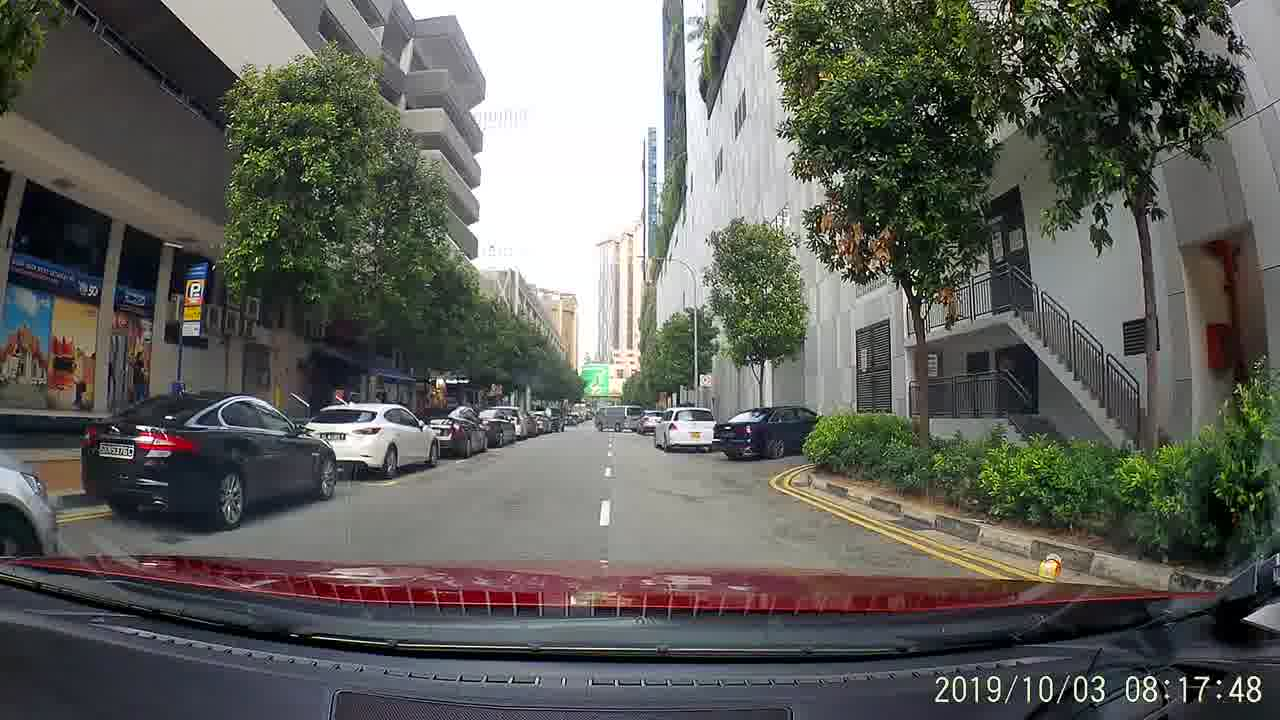car: (82, 393, 340, 532), (297, 402, 444, 479), (718, 404, 825, 462), (416, 404, 492, 457), (652, 406, 720, 453), (470, 406, 518, 448), (508, 411, 537, 437)
